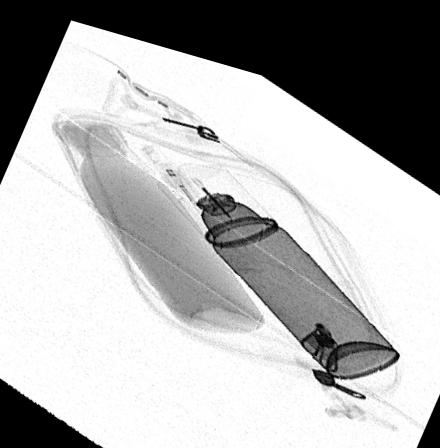Sprayer: (156, 152, 399, 360)
